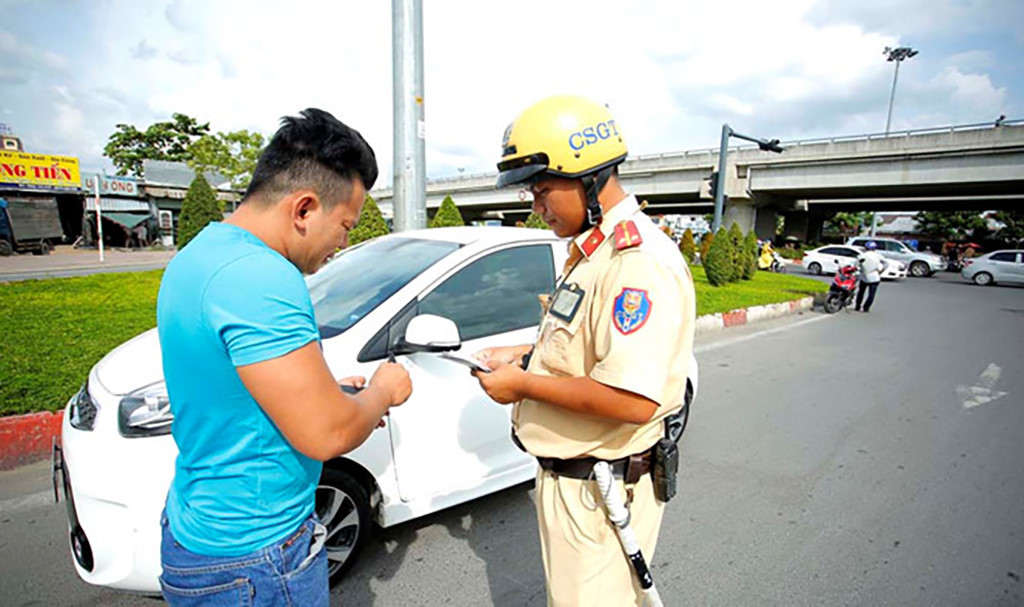police: (452, 97, 710, 607)
